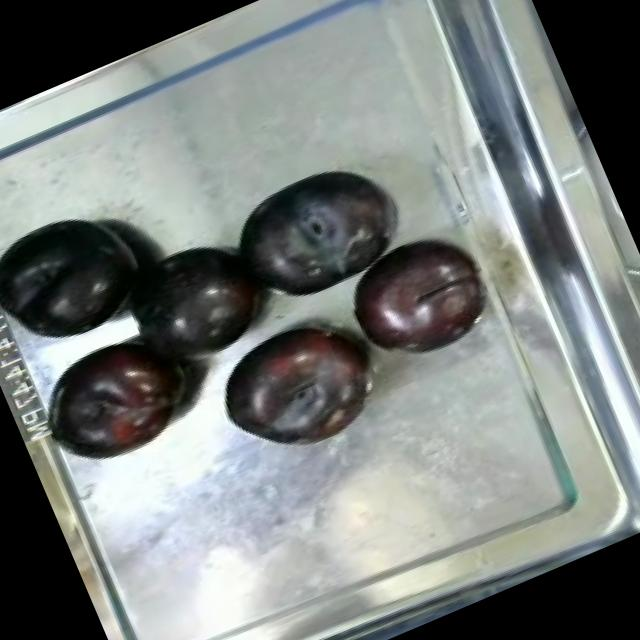Fruit: (196, 292, 402, 479), (207, 139, 416, 321), (25, 309, 216, 485), (101, 216, 287, 388), (328, 212, 508, 382), (0, 187, 165, 366)
